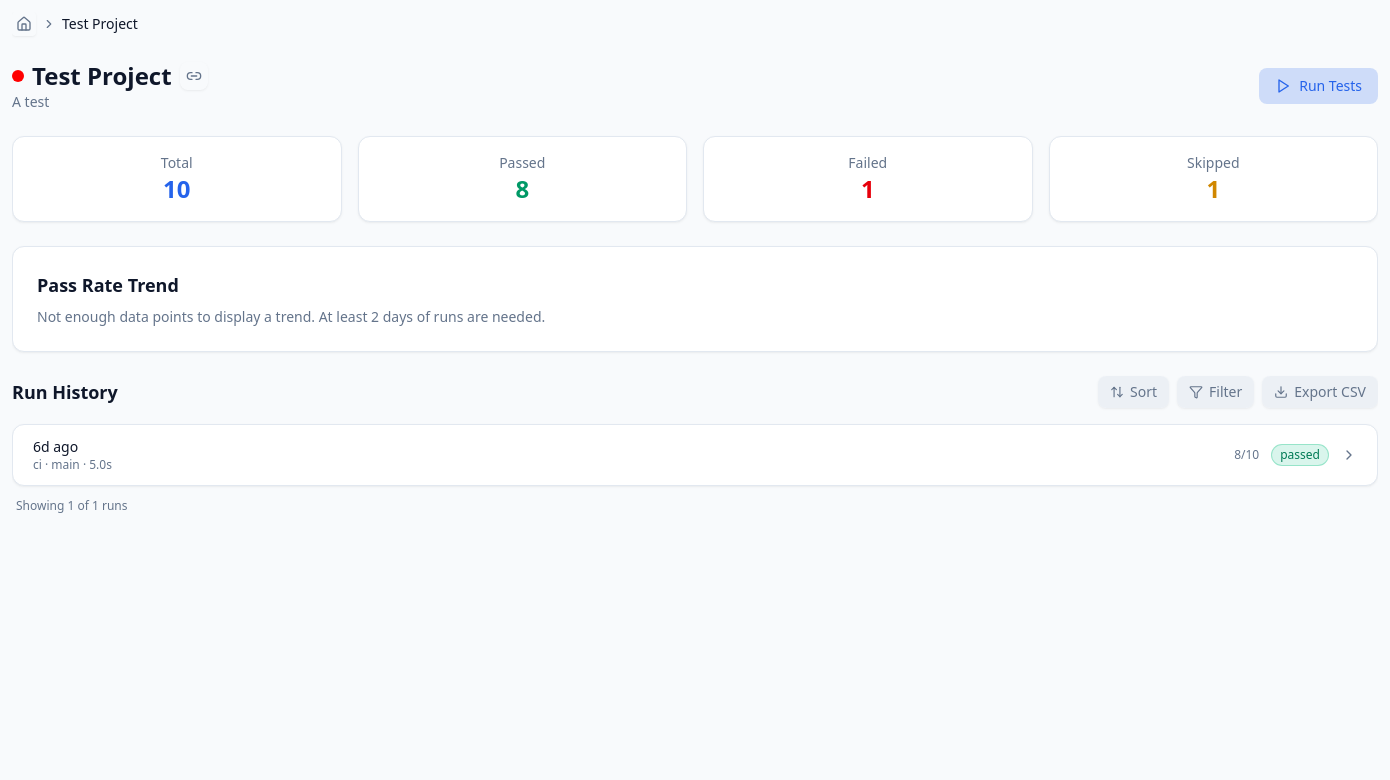
Test: ProjectClient › toggles sort panel visibility
Click the button with aria-label "toggle sort".
click(1134, 392)  # box [1098, 376, 1169, 408]
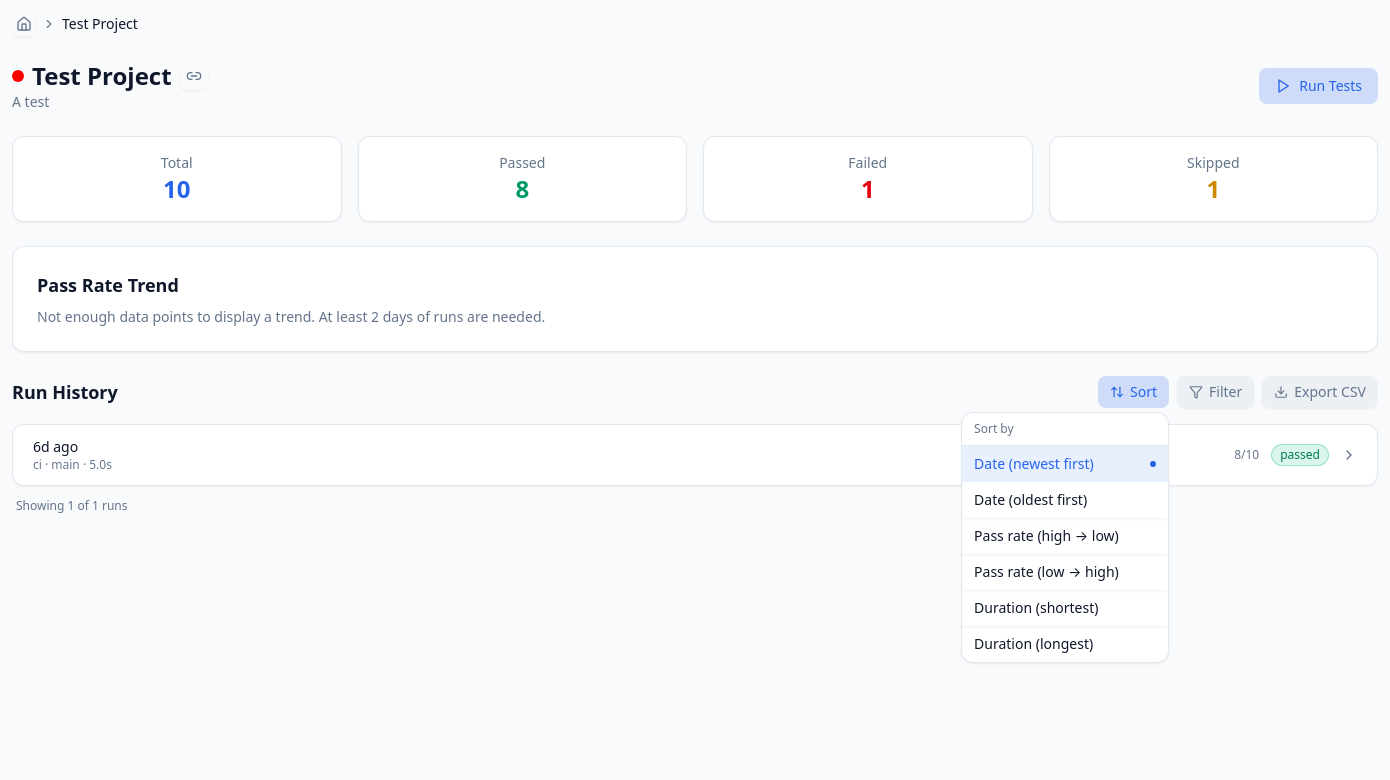
Now the button with aria-label "toggle sort" is expanded
Now the text "Sort by" is shown, box [974, 421, 1014, 437]
Click the button with aria-label "toggle sort".
click(1134, 392)  # box [1098, 376, 1169, 408]
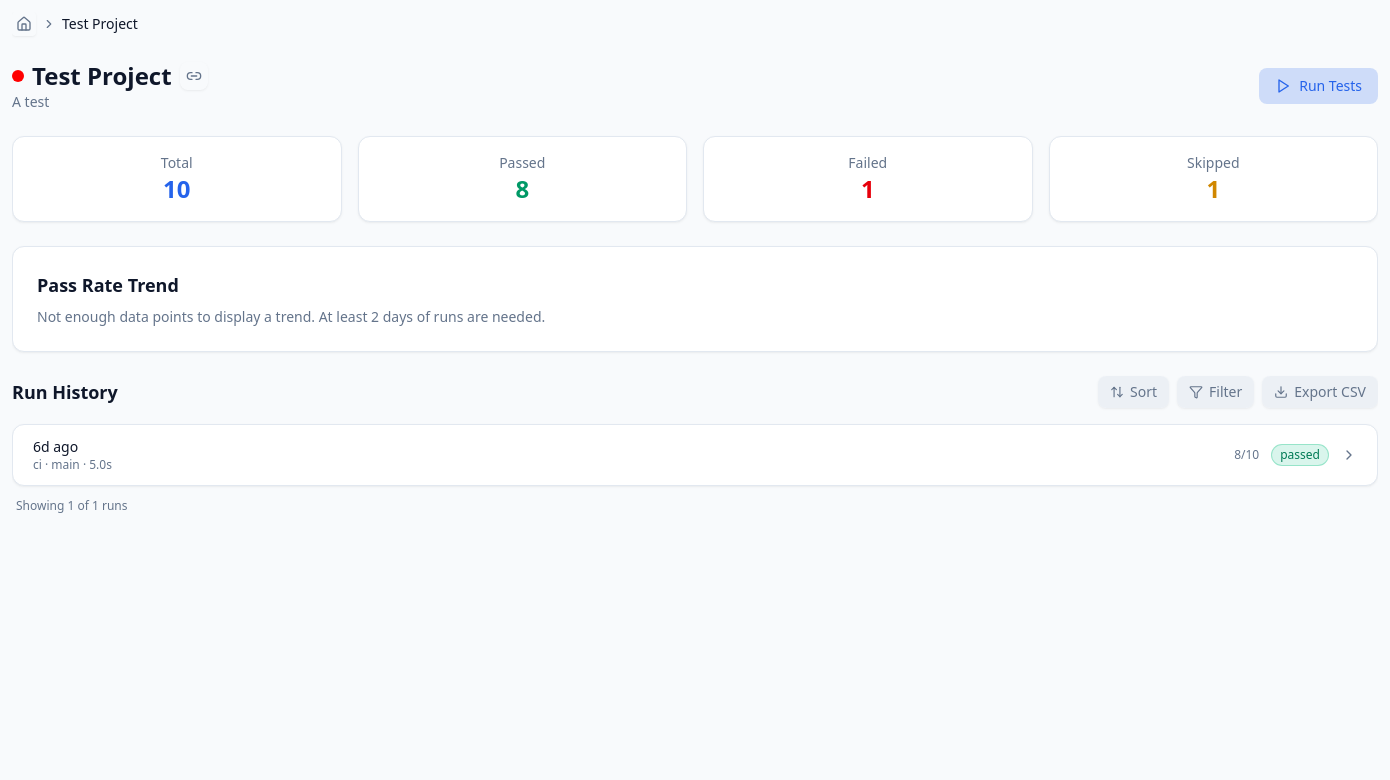
Now the button with aria-label "toggle sort" is collapsed, box [1098, 376, 1169, 408]
